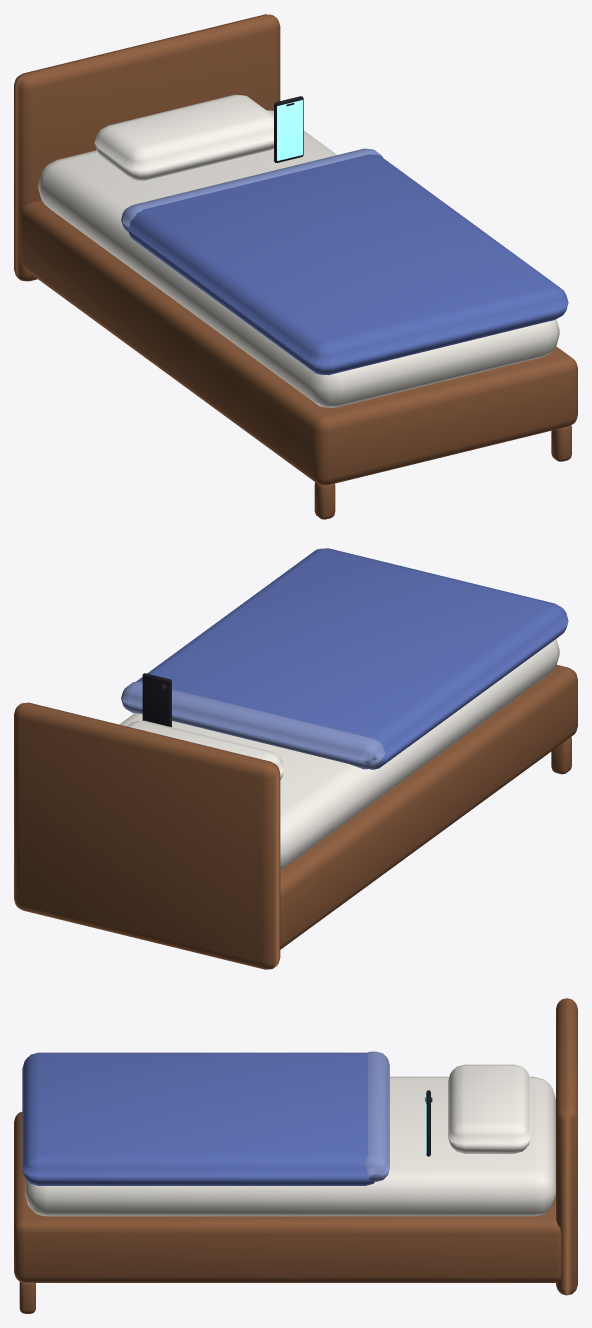
The model's file is prop_bed.fbx.
The picture shows the model from 3 angles, top to bottom: view 1: azimuth 30°, elevation 25°; view 2: azimuth 150°, elevation 25°; view 3: azimuth 270°, elevation 25°; orthographic projection. The views are drawn at different scales.
Parts seen in each view (by area): view 1: prop_bed; view 2: prop_bed; view 3: prop_bed.
Boxes of the visible parts, left/top/right/bottom form: prop_bed: left=14, top=14, right=577, bottom=519; prop_bed: left=14, top=548, right=577, bottom=969; prop_bed: left=14, top=998, right=577, bottom=1313.
Size of the model in its own units: 1 by 0.825 by 2.04.
